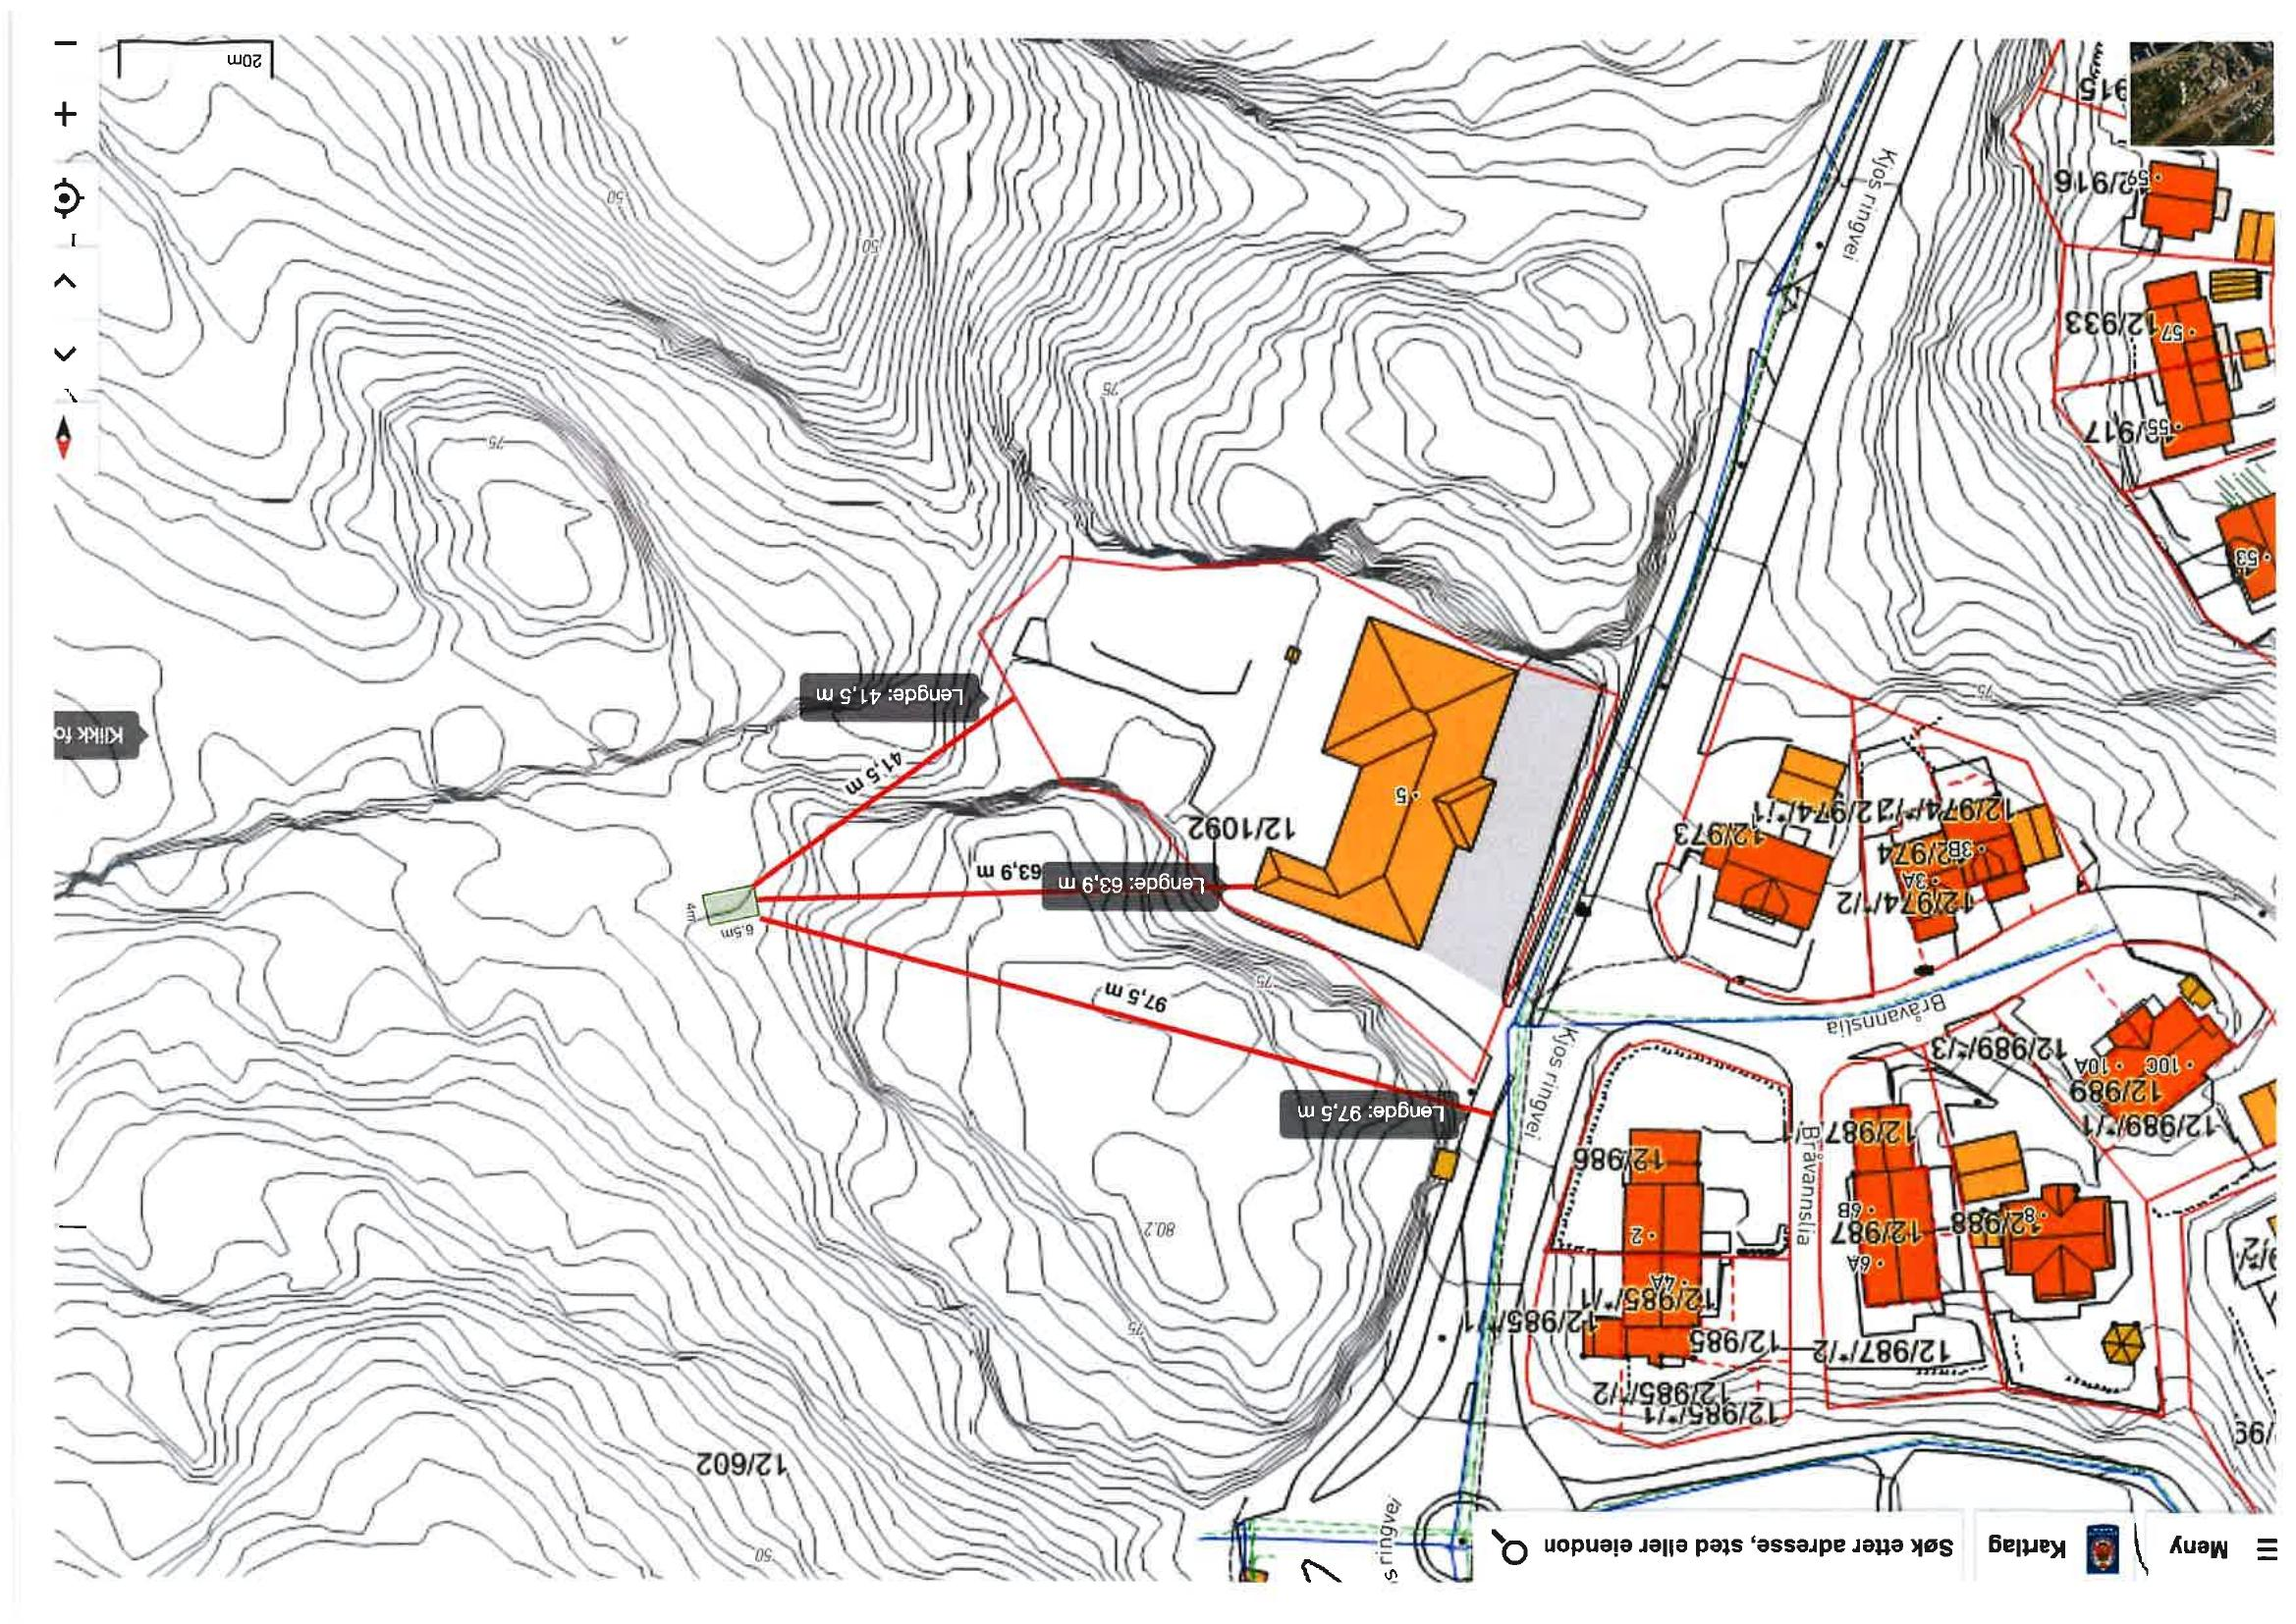situasjonskart: (101, 46, 2294, 1592)
